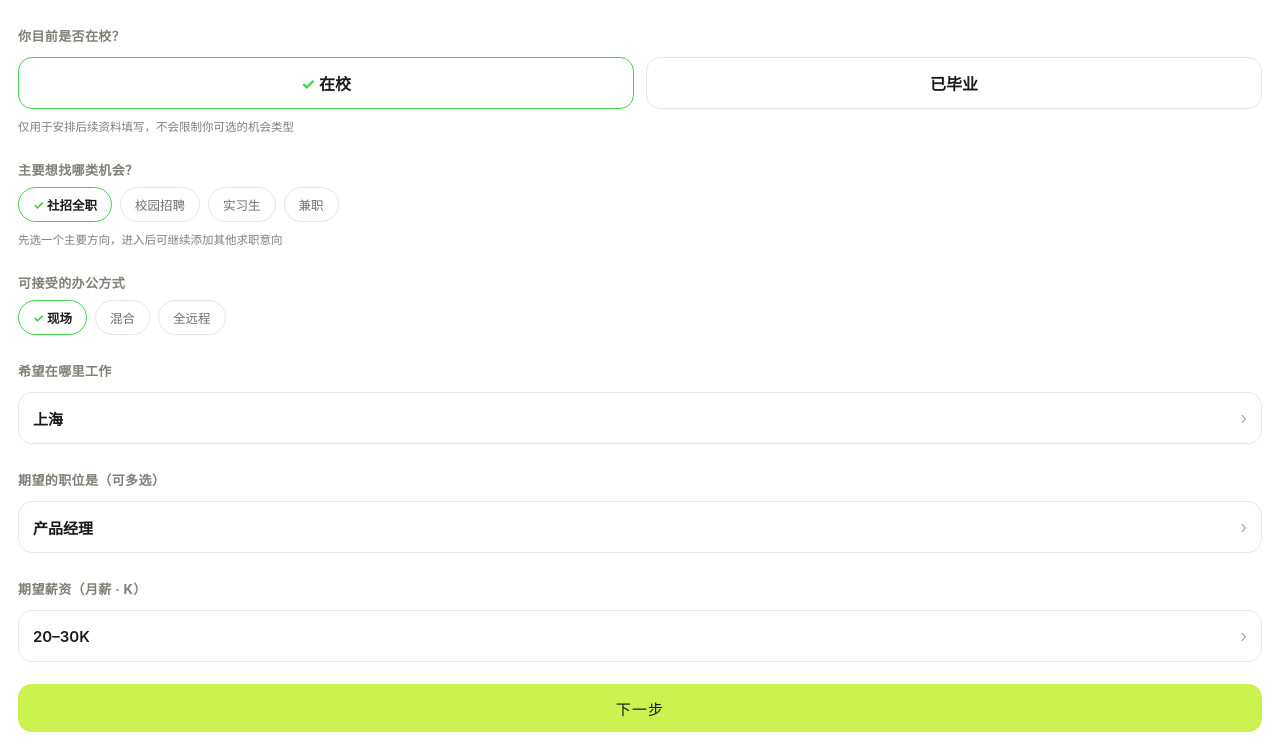
Test: 学生分流 候选 onboarding 简历预填（Spec §7 上传页接线） › 再等等 closes the layer and stays on the page
This screenshot has width=1280, height=744.
(page scrolled)
Click the button "下一步".
click(640, 708)  # box [18, 684, 1262, 732]
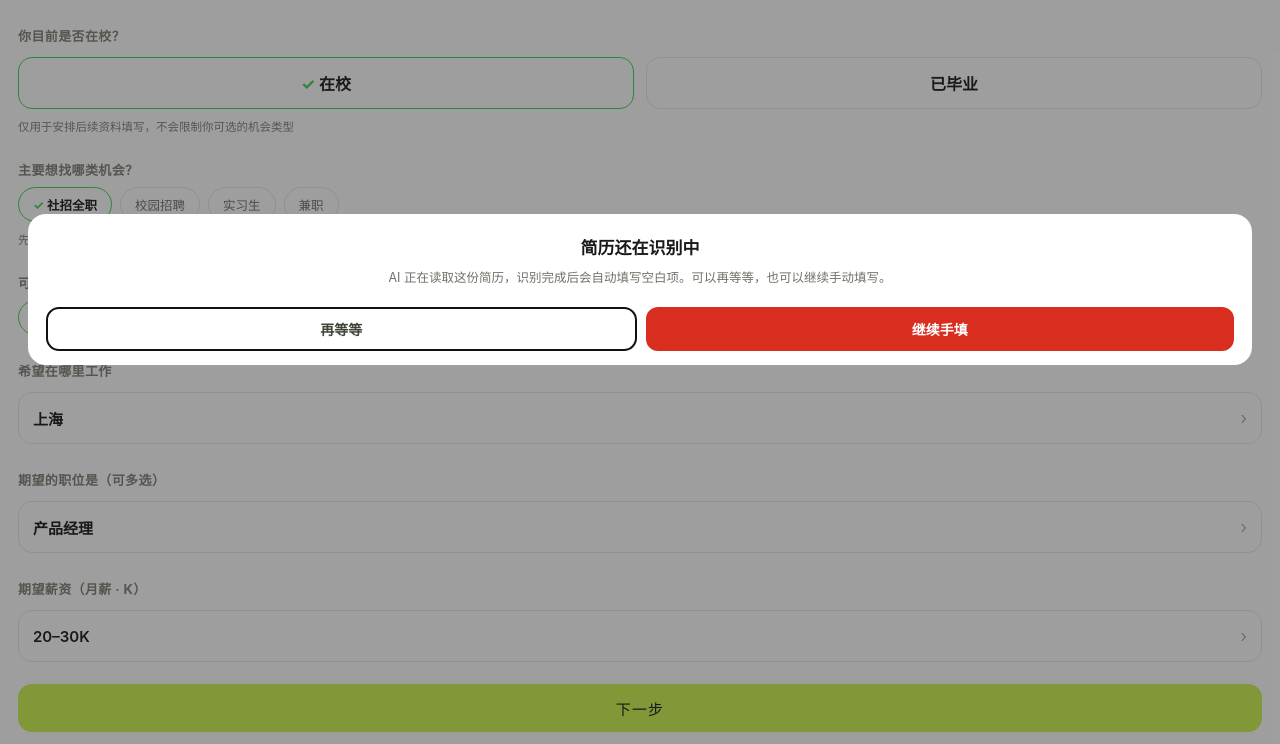
Click the button "再等等".
click(341, 329)  # box [46, 307, 636, 351]
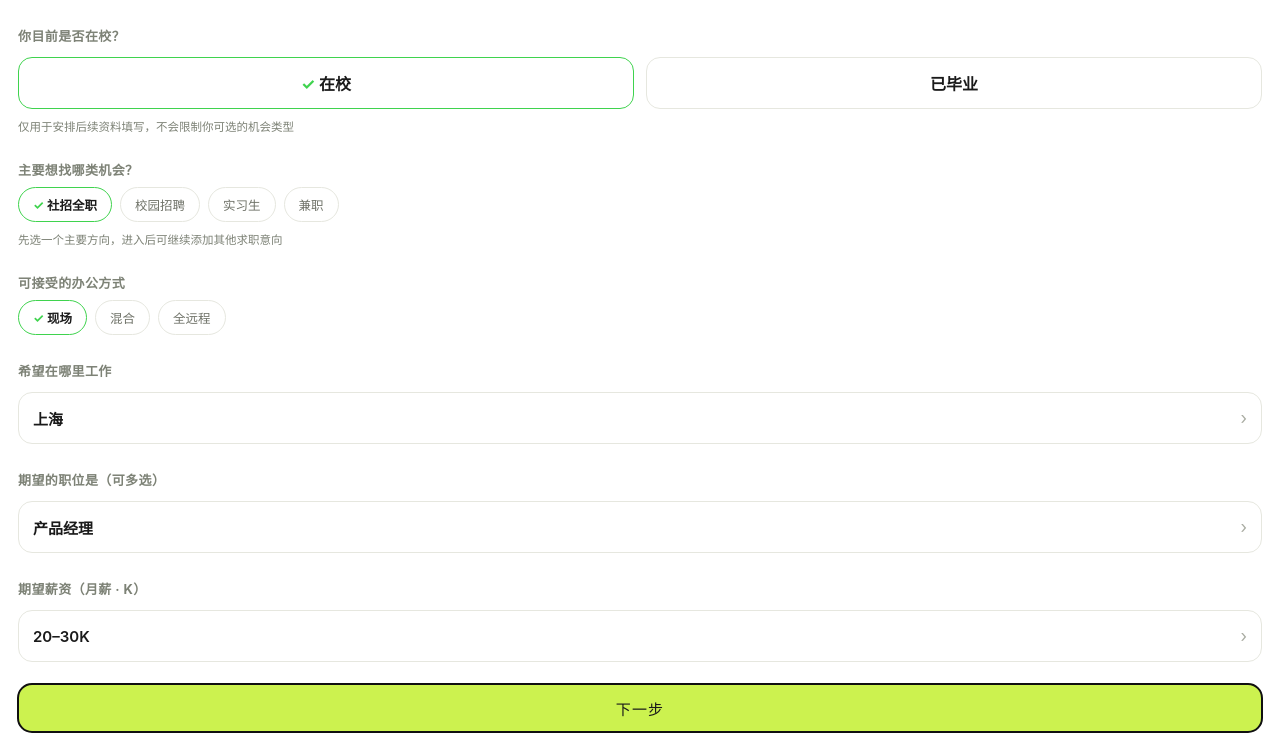
Result: the text "再等等" is gone
